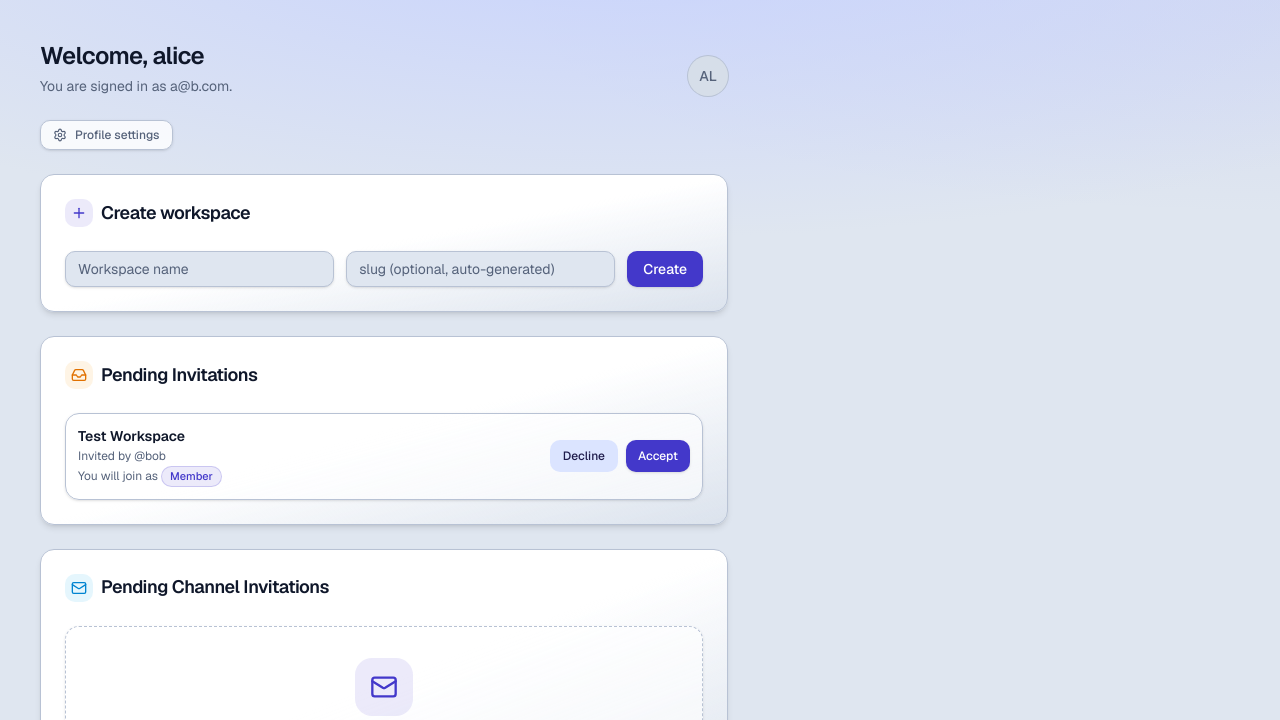
Test: DashboardPage — pending invites › shows error when accepting invite fails
Click the button "Accept". click: (658, 456)
box: left=626, top=440, right=690, bottom=472
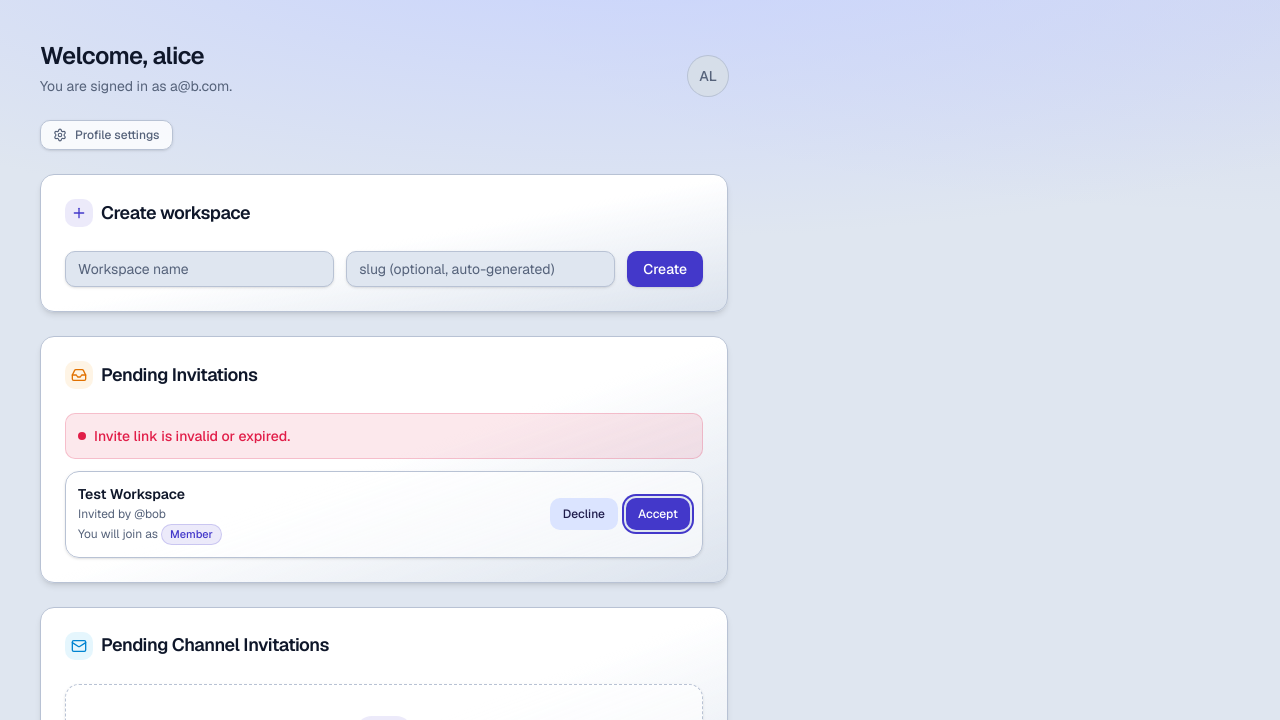
Result: the text "Invite link is invalid or expired." is shown at left=78, top=427, right=290, bottom=445
